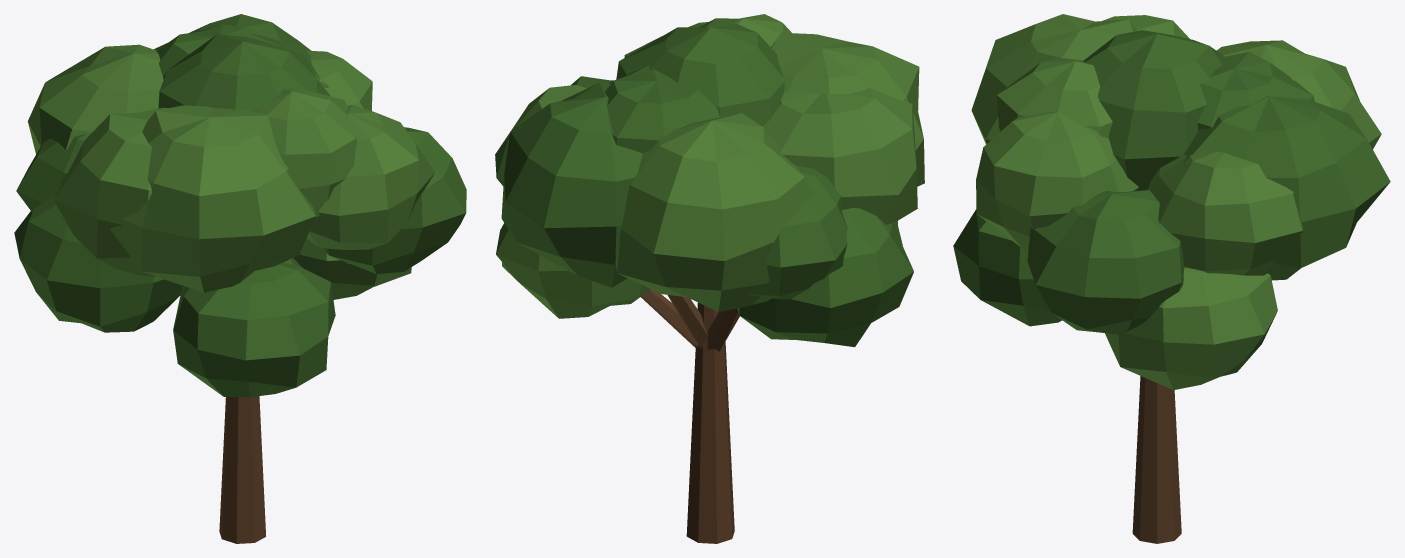
Rendered from tree_oak_large.glb.
The picture shows the model from 3 angles, left to right: view 1: azimuth 30°, elevation 25°; view 2: azimuth 150°, elevation 25°; view 3: azimuth 270°, elevation 25°; orthographic projection. The views are drawn at different scales.
Parts seen in each view (by area): view 1: tree_oak_large; view 2: tree_oak_large; view 3: tree_oak_large.
Boxes of the visible parts, x1=… form: tree_oak_large: x1=14, y1=14, x2=466, y2=543; tree_oak_large: x1=495, y1=14, x2=924, y2=543; tree_oak_large: x1=953, y1=14, x2=1390, y2=543.
Bounding box in the file's own units: 15 × 18.17 × 14.42.
